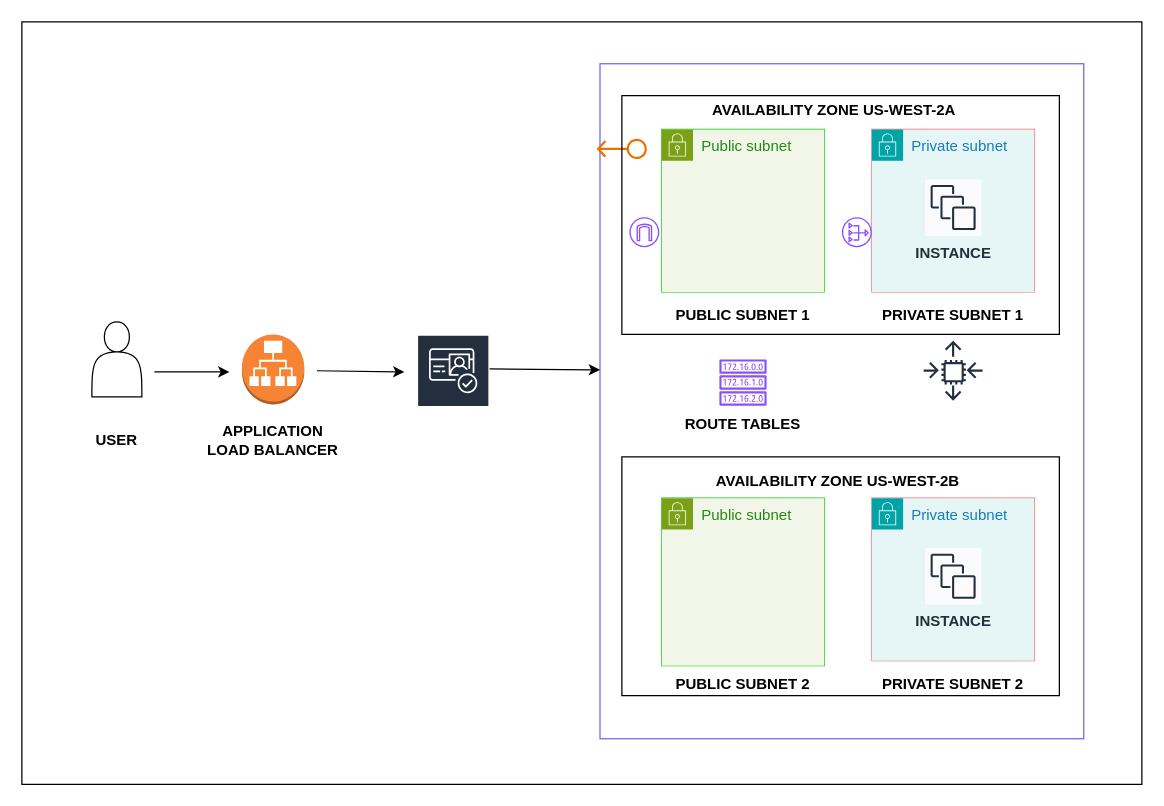
This 1164x806 diagram has some shape labels left out. The shapes that lost their labels are listed below. From the top down, each one's centre as x and y in pixels, then its label:
the point at 453,387: AMAZON COGNITO
the point at 952,370: AUTOSCALING
